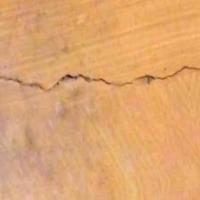crack: (1, 58, 199, 108)
